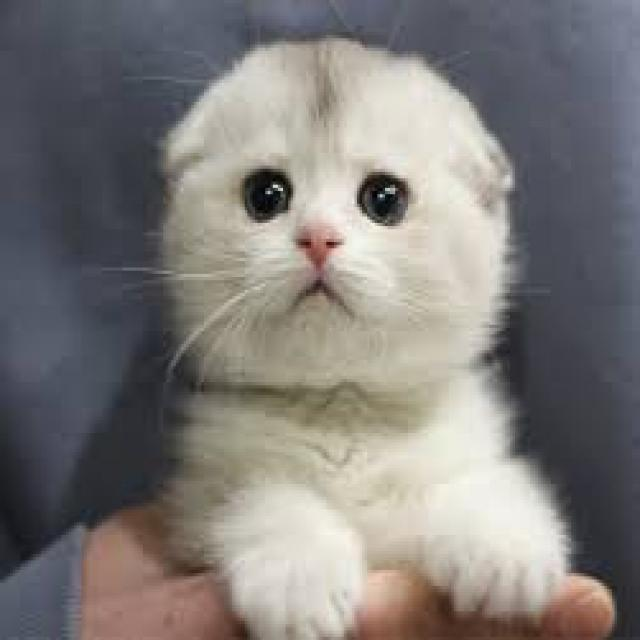cat-face: (117, 8, 574, 467)
